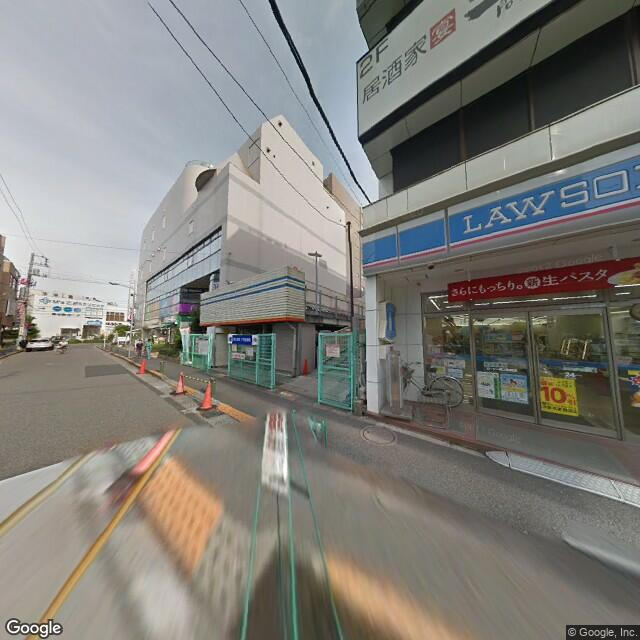lawson: (359, 145, 639, 276)
